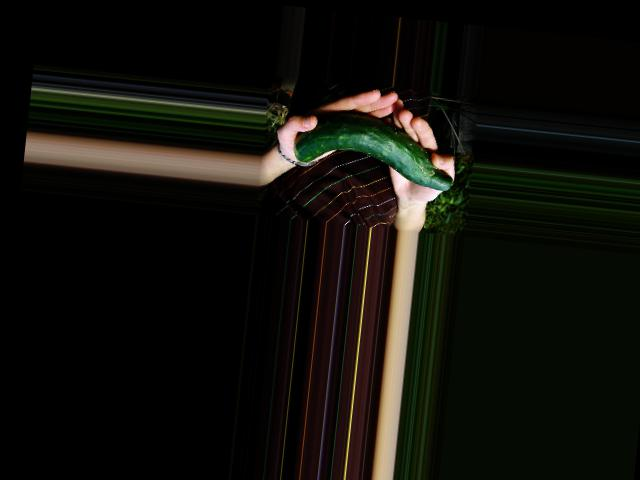cucumber: (290, 108, 458, 191)
